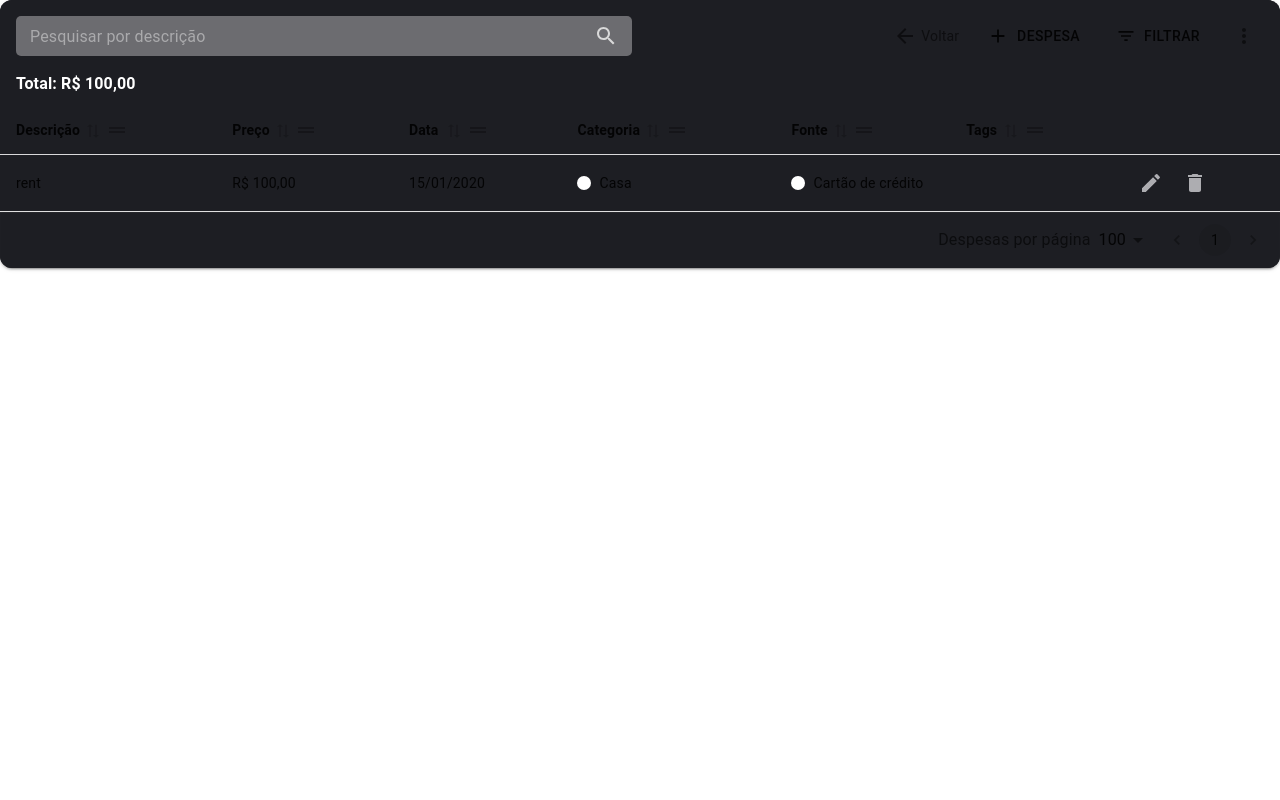
Test: failed edits retain server feedback and matching search rows
This screenshot has width=1280, height=800.
Expected: the text "rent" is shown, x1=0 y1=155 x2=216 y2=212
Click the button named "Editar" at (1151, 183), box x1=1131 y1=163 x2=1171 y2=203
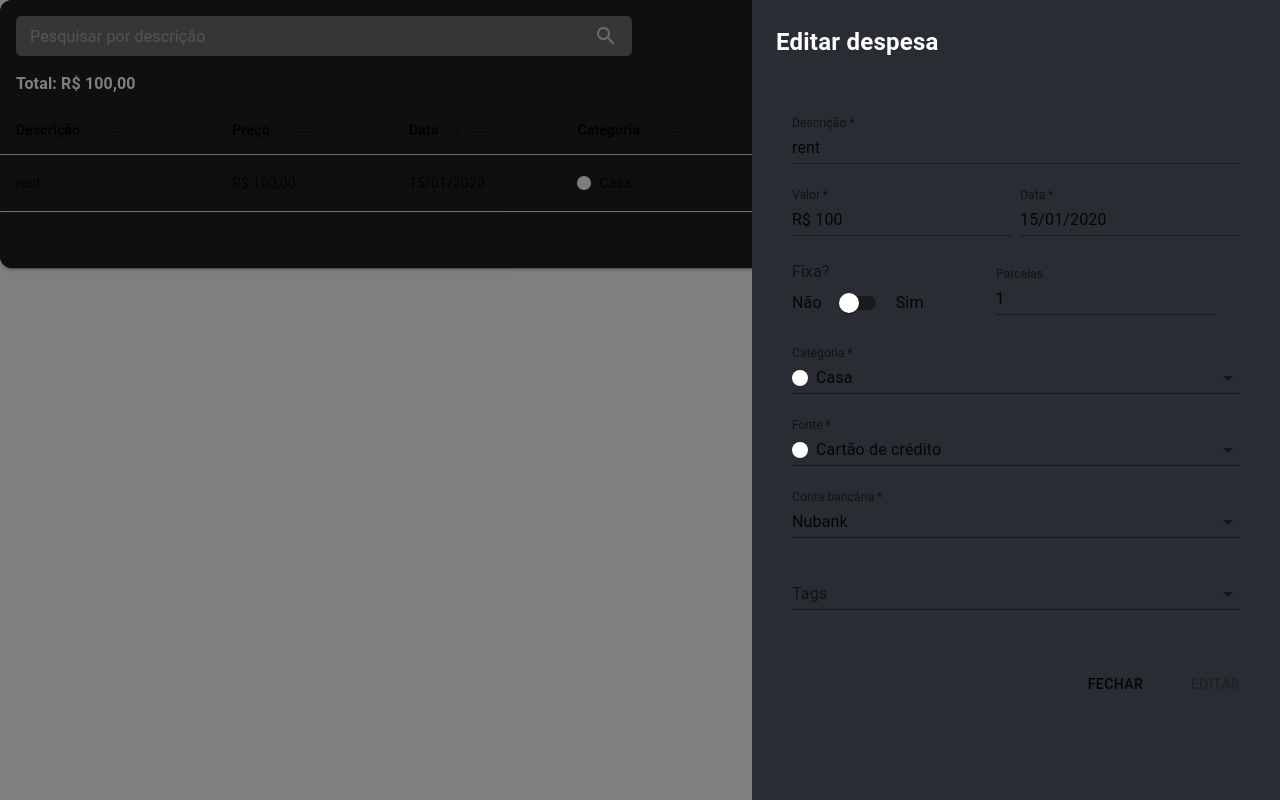
Replace the text in the field labelled "Descrição *" with "food" at (1016, 148), box x1=792 y1=132 x2=1240 y2=164
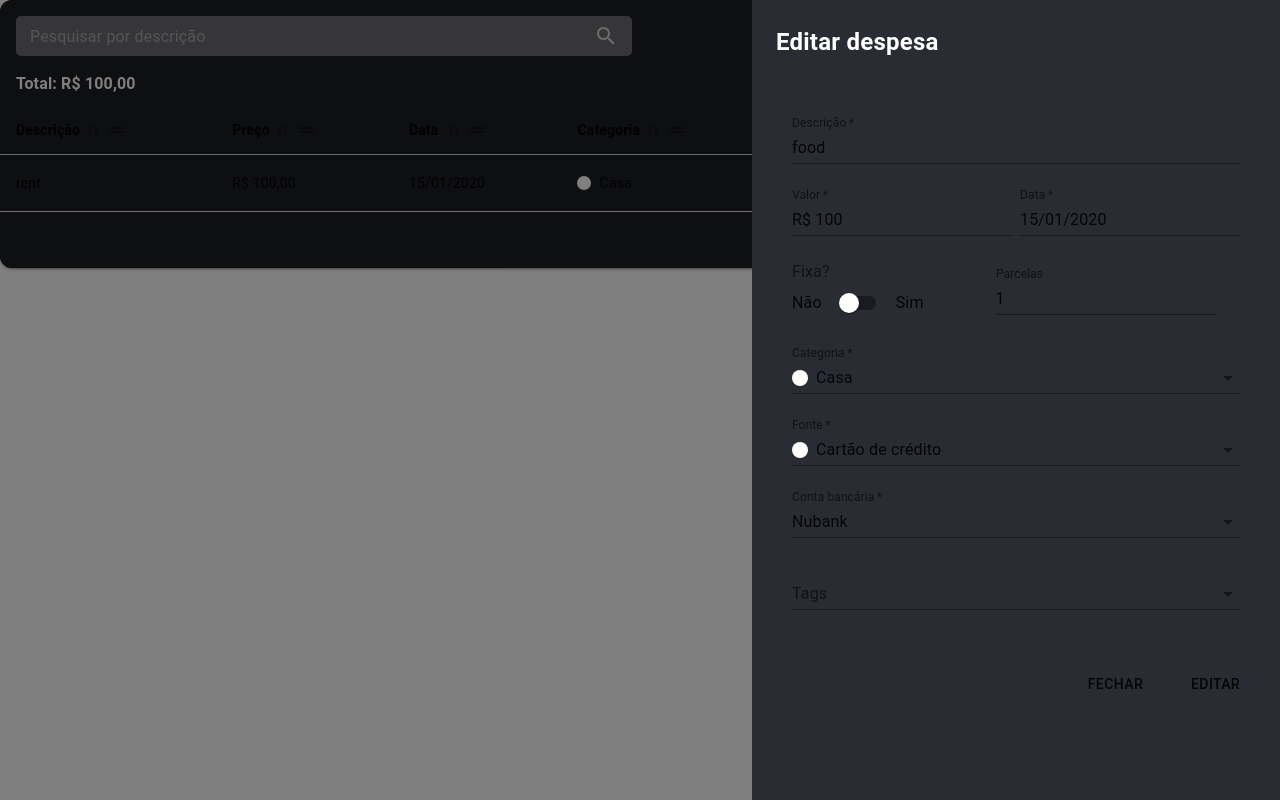
Click the button "Editar" at (1216, 684), box x1=1175 y1=666 x2=1256 y2=702
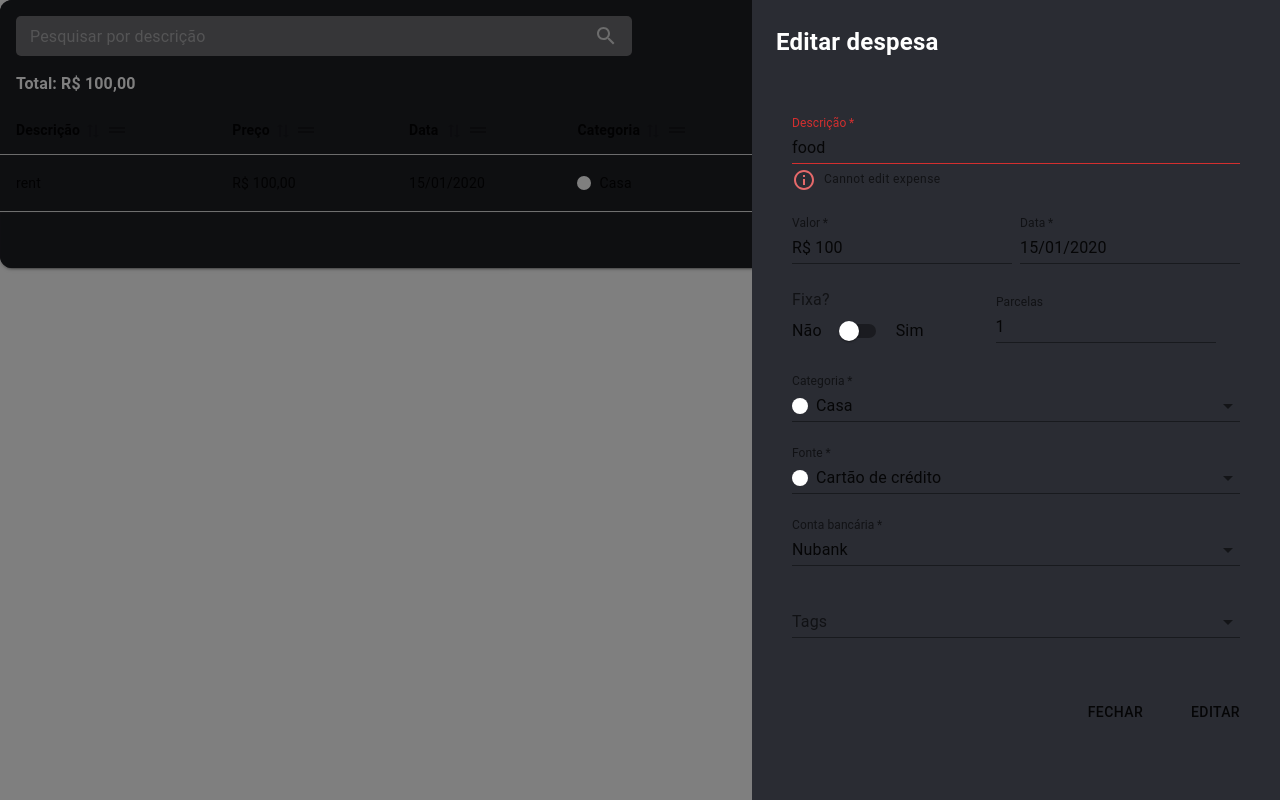
Expected: the text "rent" is shown, x1=0 y1=155 x2=216 y2=212
Expected: the text "Cannot edit expense" is shown, x1=824 y1=170 x2=940 y2=190
